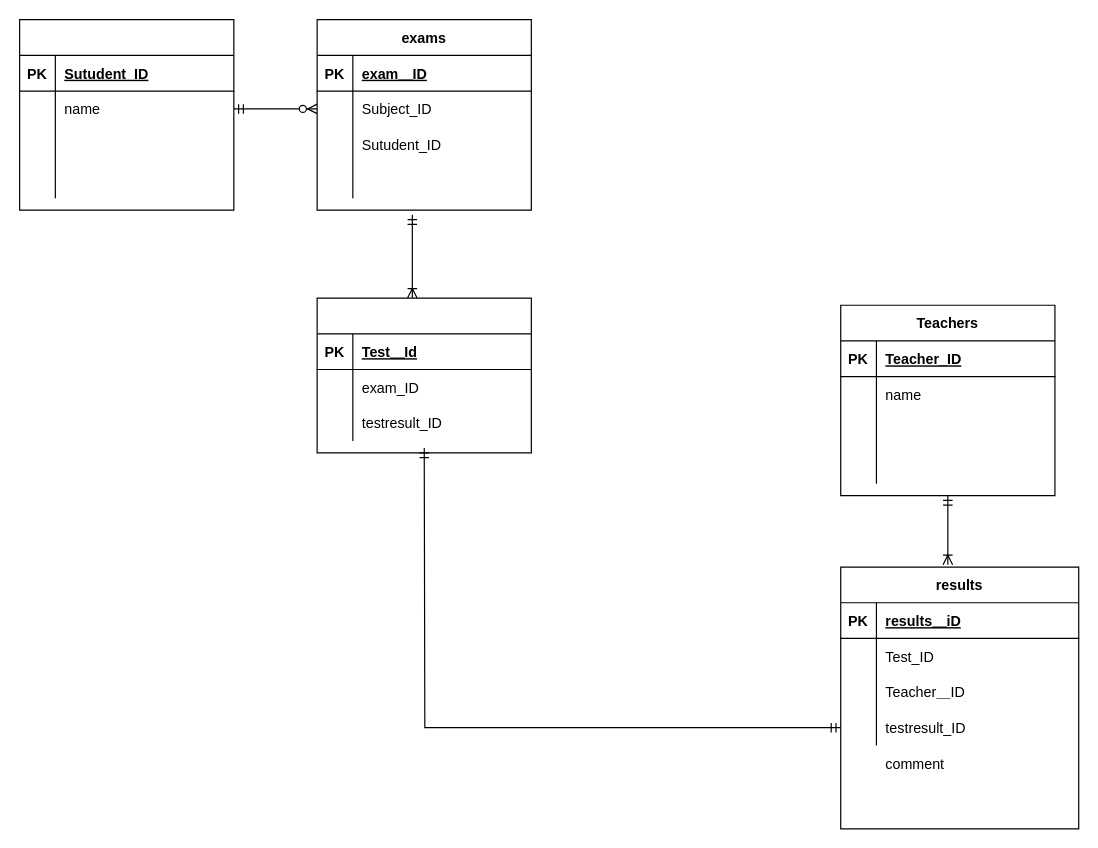
The diagram is 1098 pixels wide and 848 high, and some of its shapes have lost their labels. The box of each missing label's shape, as (x1, y1, x2, y2) in pixels:
Sutudents: (18, 18, 234, 210)
Tests: (316, 297, 531, 453)
